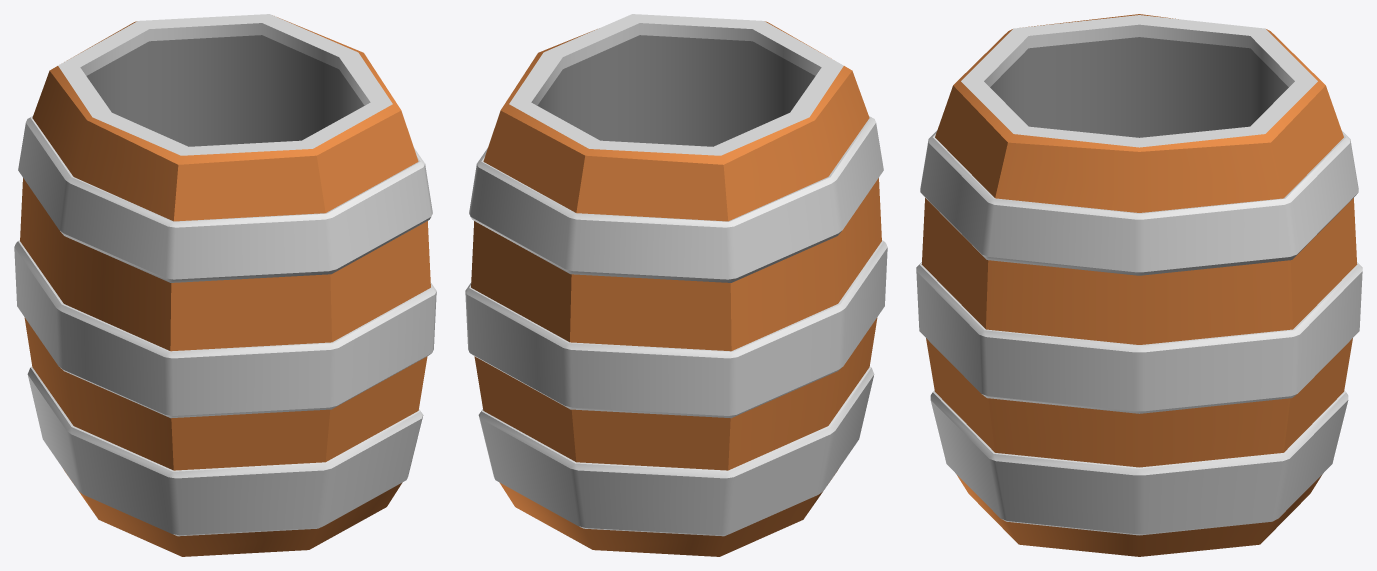
The model's file is Barill Better.fbx.
The picture shows the model from 3 angles, left to right: view 1: azimuth 30°, elevation 25°; view 2: azimuth 150°, elevation 25°; view 3: azimuth 270°, elevation 25°; orthographic projection. The views are drawn at different scales.
Parts seen in each view (by area): view 1: Cube; view 2: Cube; view 3: Cube.
Boxes of the visible parts, x1,y1,x2,y2 form: Cube: (14, 14, 436, 556); Cube: (465, 14, 887, 556); Cube: (916, 14, 1362, 556).
Size of the model in its own units: 299 by 346 by 339.
